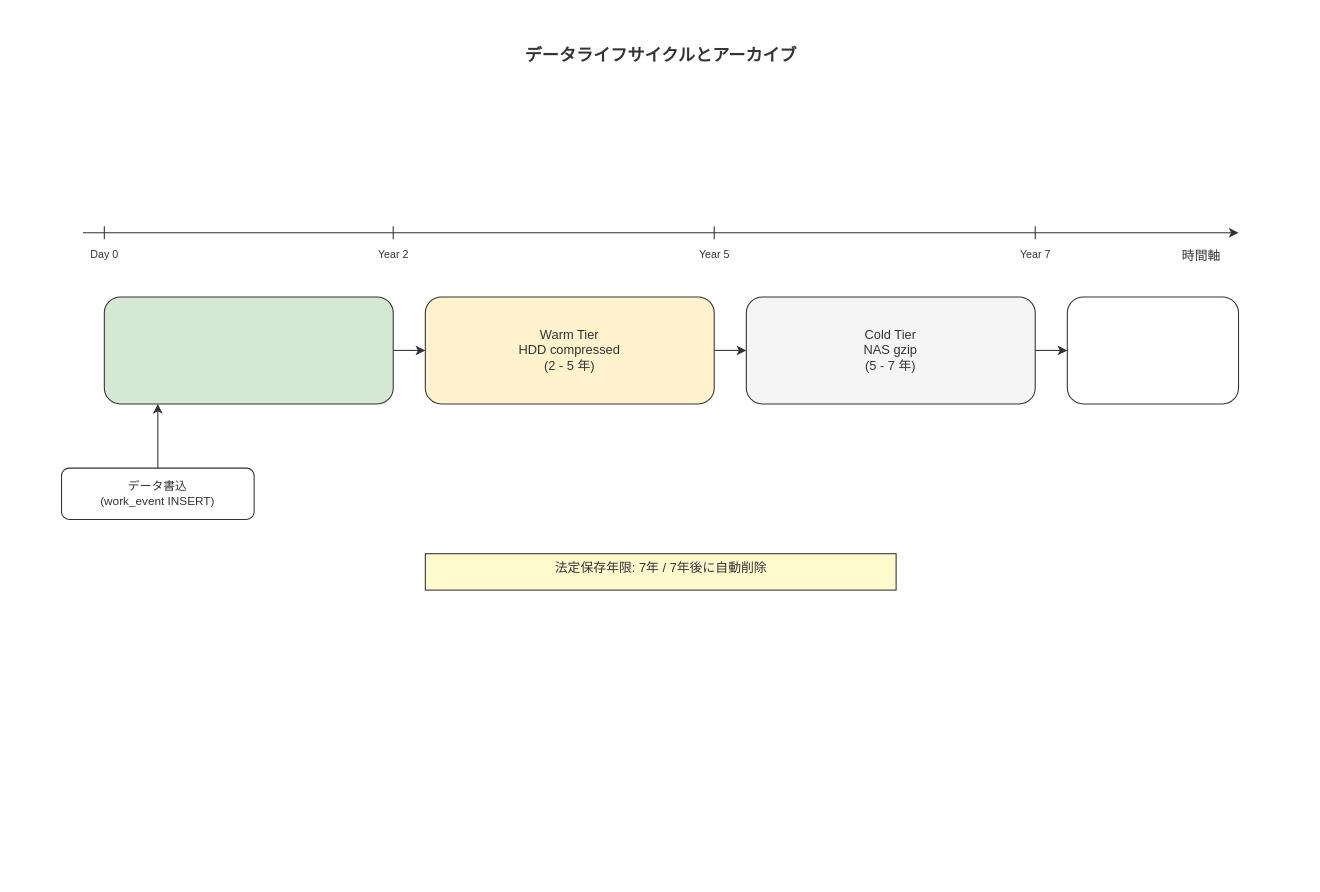
Some shapes in this 1320 by 892 pixel diagram are drawn without their labels. The centre of each missing label's shape, as x and y in pixels:
"Hot Tier SSD online (0 - 2 年)" belongs at [248,350].
"削除 (7 年後)" belongs at [1152,350].
